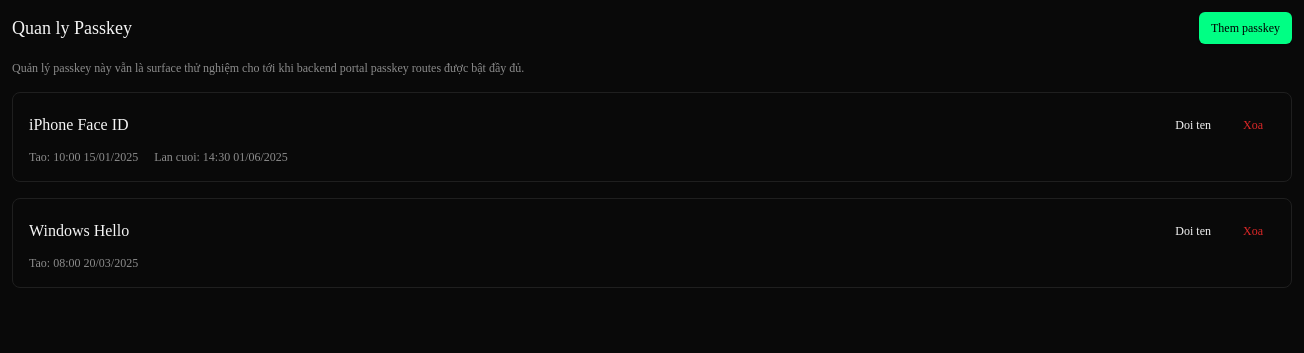
it: PasskeyManagement › deletes a passkey after confirmation
Expected: the text "iPhone Face ID" is shown, top-left (29, 113), bottom-right (128, 137)
Click the button "Xoa" in the row of "iPhone Face ID": coordinates (1253, 125) top-left (1231, 109), bottom-right (1275, 141)
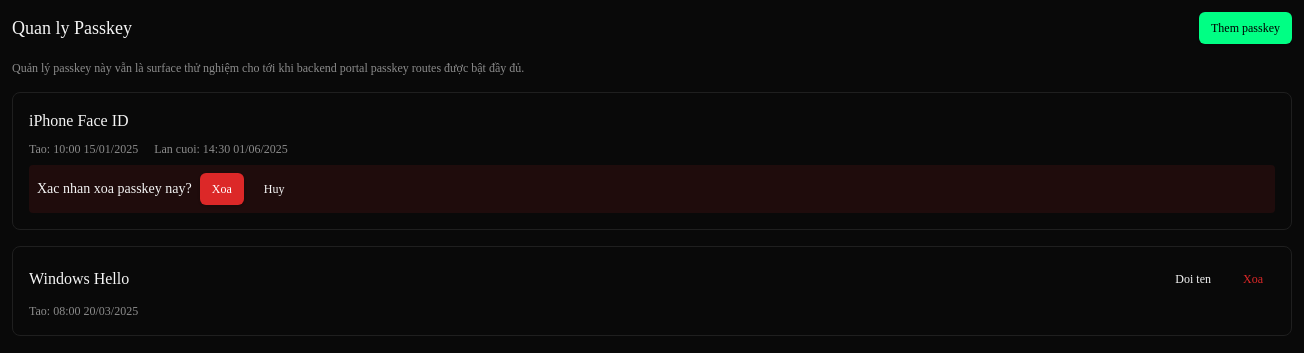
Expected: the text "Xac nhan xoa passkey nay?" is shown, top-left (37, 179), bottom-right (192, 199)
Click the button "Xoa" next to "Xac nhan xoa passkey nay?": coordinates (222, 189) top-left (200, 173), bottom-right (244, 205)
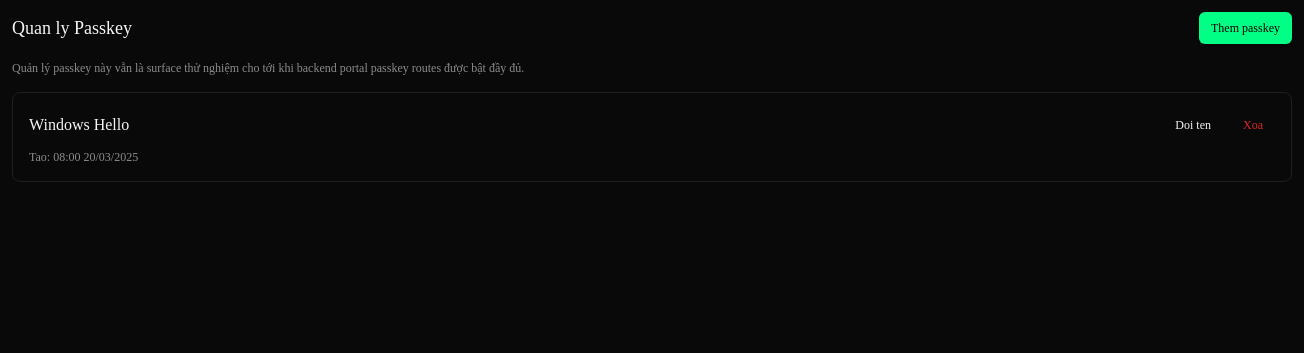
Expected: the text "iPhone Face ID" is gone
